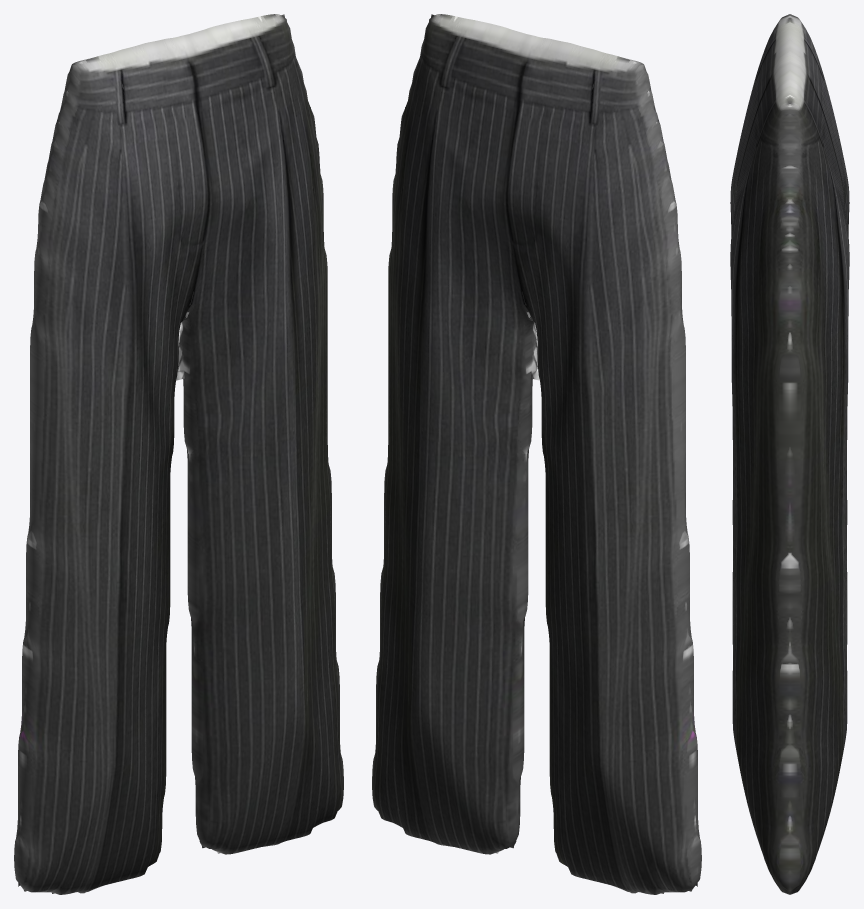
File: prod-ae-charcoal-pinstripe-trousers.glb
3 renders of one model, left to right at view 1: azimuth 30°, elevation 25°; view 2: azimuth 150°, elevation 25°; view 3: azimuth 270°, elevation 25°, orthographic. The views are drawn at different scales.
Parts seen in each view (by area): view 1: prod-ae-charcoal-pinstripe-trousers_standalone; view 2: prod-ae-charcoal-pinstripe-trousers_standalone; view 3: prod-ae-charcoal-pinstripe-trousers_standalone.
Part boxes in pixels (x1=…): prod-ae-charcoal-pinstripe-trousers_standalone: x1=14, y1=14, x2=343, y2=894; prod-ae-charcoal-pinstripe-trousers_standalone: x1=372, y1=14, x2=701, y2=894; prod-ae-charcoal-pinstripe-trousers_standalone: x1=730, y1=14, x2=849, y2=894.
Size of the model in its own units: 0.3134 by 0.7775 by 0.1075.
1 material, 1 textured.
